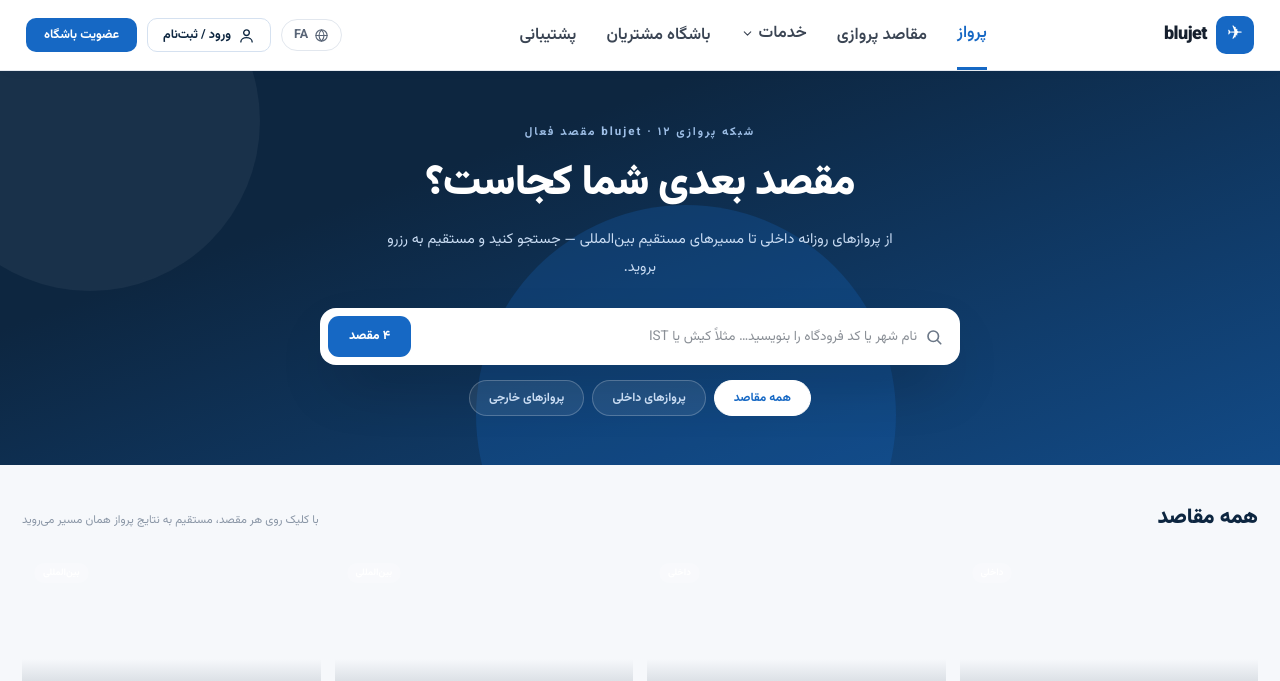
Scenario: DestinationsPage › filters by region tab
The image size is (1280, 681).
Click the button "پروازهای خارجی" at [527, 398], box [469,380,584,416]
(page scrolled)
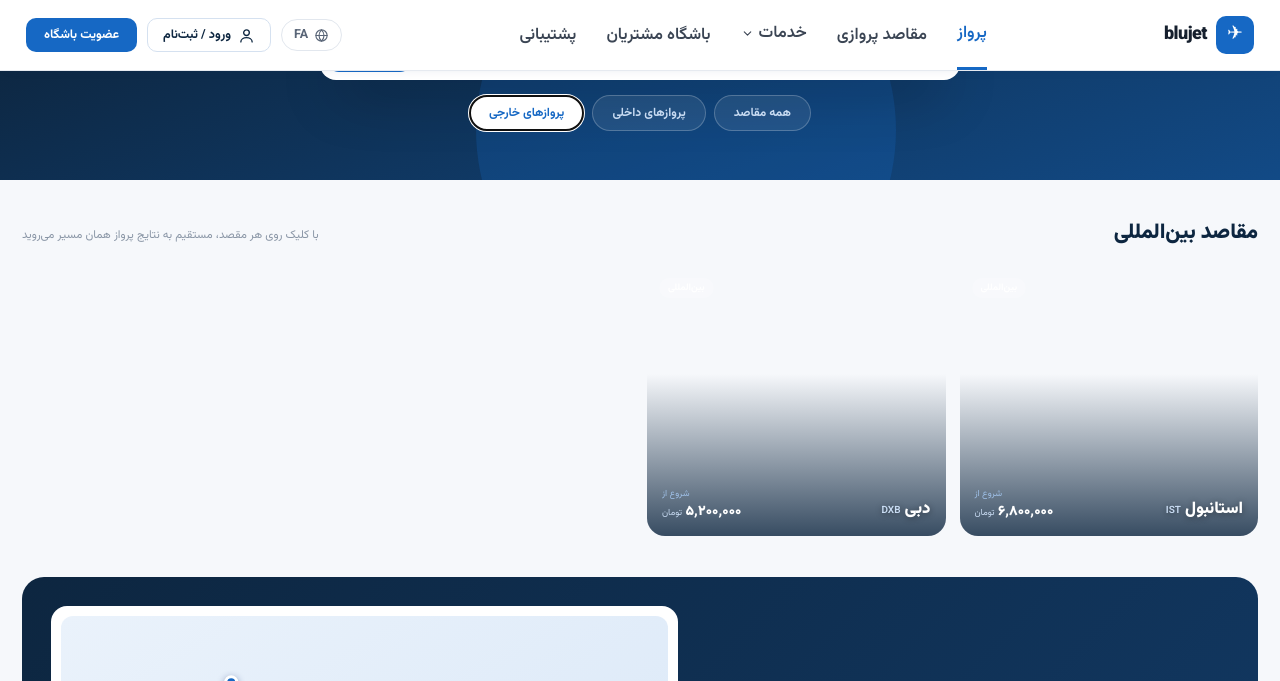
Expected: the link with test id "dest-card-DXB" is shown, [647,266,946,536]
Now the heading "مقاصد بین‌المللی" is shown, box [1114,217,1258,249]
